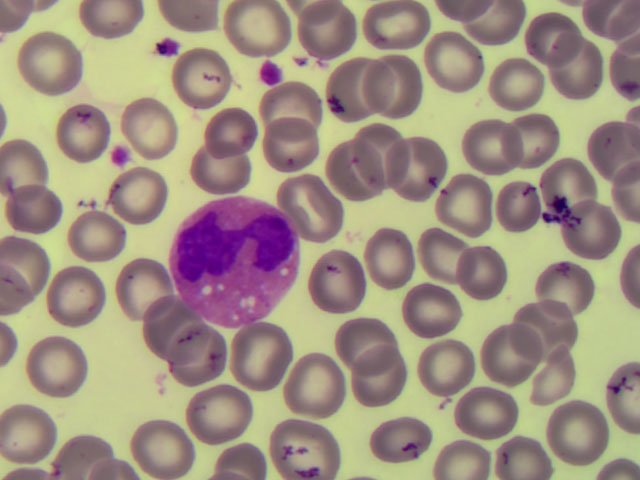Platelets: (259, 60, 282, 86), (155, 36, 180, 58), (108, 146, 128, 167)
RBC: (127, 410, 192, 480), (62, 410, 127, 480), (276, 410, 341, 480), (360, 410, 425, 480), (18, 29, 83, 98), (44, 98, 109, 167), (120, 95, 185, 164), (110, 163, 175, 232), (63, 203, 128, 272), (40, 264, 105, 333), (107, 251, 172, 320), (134, 293, 199, 362), (155, 320, 220, 389), (188, 386, 253, 455), (24, 340, 89, 409), (231, 323, 296, 392), (269, 352, 334, 421), (348, 359, 413, 428), (331, 306, 396, 375), (303, 249, 368, 318), (281, 170, 346, 239), (178, 137, 243, 206), (200, 100, 265, 169), (171, 45, 236, 114), (1, 174, 65, 243), (1, 402, 65, 471), (432, 416, 494, 480), (508, 416, 570, 480), (366, 55, 428, 118), (326, 62, 388, 125), (320, 141, 382, 204), (353, 111, 415, 174), (262, 116, 324, 179), (265, 82, 327, 145), (380, 136, 442, 199), (366, 231, 428, 294), (411, 220, 473, 283), (460, 242, 522, 305), (436, 173, 498, 236), (480, 172, 542, 235), (456, 122, 518, 185), (502, 101, 564, 164), (487, 48, 549, 111), (424, 32, 486, 95), (466, 2, 528, 65), (513, 3, 575, 66), (545, 35, 607, 98), (578, 122, 640, 185), (536, 157, 598, 220), (562, 199, 624, 262), (539, 252, 601, 315), (514, 304, 576, 367), (477, 328, 539, 391), (416, 337, 478, 400), (404, 280, 466, 343), (456, 379, 518, 442), (558, 396, 620, 459), (292, 1, 354, 63), (362, 1, 424, 63), (221, 1, 291, 54), (598, 361, 640, 435)
WBC: (169, 198, 294, 323)
